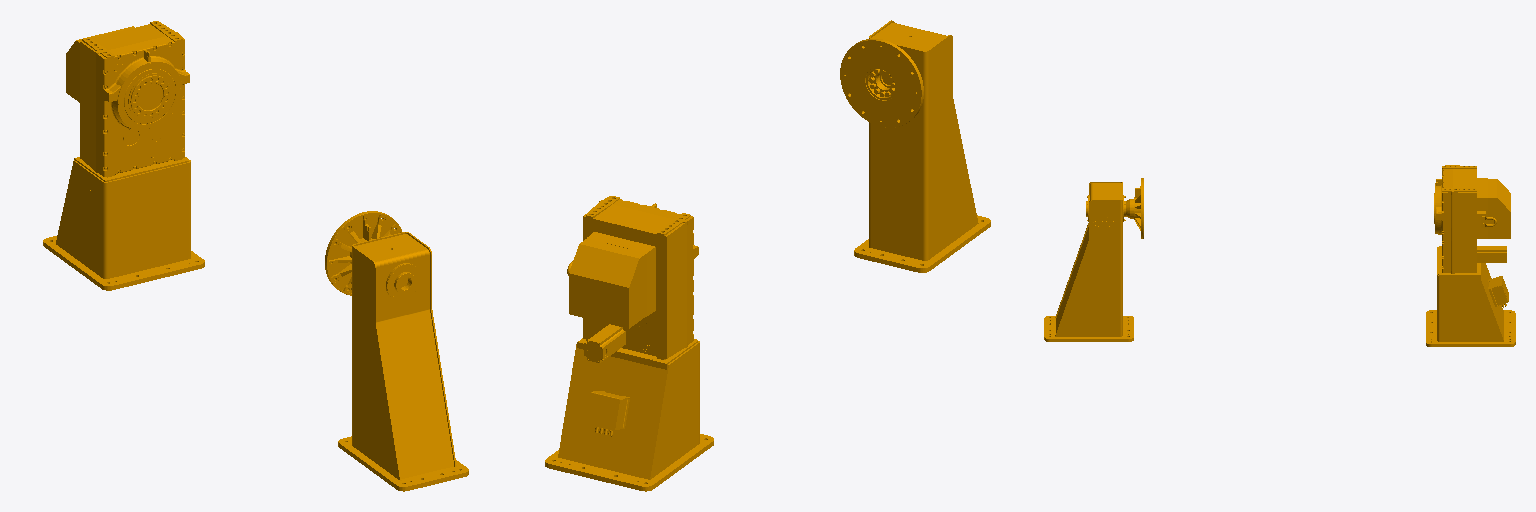
The robot description file, URDF, robot "Irbpl_5000":
<?xml version="1.0" ?>
<robot name="Irbpl_5000">

<link name="base_link">
  <inertial>
    <origin xyz="0.0005829778485577822 -1.2036208599013447 0.6626388627610642" rpy="0 0 0"/>
    <mass value="5166.929784478039"/>
    <inertia ixx="13841.161857" iyy="1110.892651" izz="12966.097307" ixy="-4.062372" iyz="-421.700705" ixz="-0.857961"/>
  </inertial>
  <visual>
    <origin xyz="0 0 0" rpy="0 0 0"/>
    <geometry>
      <mesh filename="meshes/base_link.stl" scale="0.001 0.001 0.001"/>
    </geometry>
  </visual>
  <collision>
    <origin xyz="0 0 0" rpy="0 0 0"/>
    <geometry>
      <mesh filename="meshes/base_link.stl" scale="0.001 0.001 0.001"/>
    </geometry>
  </collision>
</link>

<link name="Component3_1">
  <inertial>
    <origin xyz="4.517241260918661e-14 -0.06442413982761847 0.0016023645647960105" rpy="0 0 0"/>
    <mass value="122.79910584772315"/>
    <inertia ixx="4.004183" iyy="7.771467" izz="3.958058" ixy="0.0" iyz="-0.007626" ixz="-0.0"/>
  </inertial>
  <visual>
    <origin xyz="-0.0 0.3298 -1.2" rpy="0 0 0"/>
    <geometry>
      <mesh filename="meshes/Component3_1.stl" scale="0.001 0.001 0.001"/>
    </geometry>
  </visual>
  <collision>
    <origin xyz="-0.0 0.3298 -1.2" rpy="0 0 0"/>
    <geometry>
      <mesh filename="meshes/Component3_1.stl" scale="0.001 0.001 0.001"/>
    </geometry>
  </collision>
</link>

<joint name="Revolute_1" type="continuous">
  <origin xyz="0.0 -0.3298 1.2" rpy="0 0 0"/>
  <parent link="base_link"/>
  <child link="Component3_1"/>
  <axis xyz="0.0 1.0 0.0"/>
</joint>

</robot>

--- What the picture shows (computed from the rendered views, not written in the file) ---
The picture shows the robot from 3 angles, left to right: view 1: azimuth 30°, elevation 25°; view 2: azimuth 150°, elevation 25°; view 3: azimuth 270°, elevation 25°; orthographic projection.
Robot: Irbpl_5000 — 2 links, 1 joints (1 continuous); root link base_link; default pose: every joint at zero.
Visible links, largest first — view 1: base_link; view 2: base_link; view 3: base_link.
Link boxes in pixels (left/top/right/bottom): base_link: left=43, top=21, right=468, bottom=491; base_link: left=545, top=20, right=990, bottom=491; base_link: left=1044, top=165, right=1515, bottom=346.
Size in the robot's own frame: 0.72 by 4.21 by 1.5 metres.
1 mesh visuals loaded from 2 distinct referenced files (1 binary STL); not drawn: 1 (reference not matched to a file when rendering).